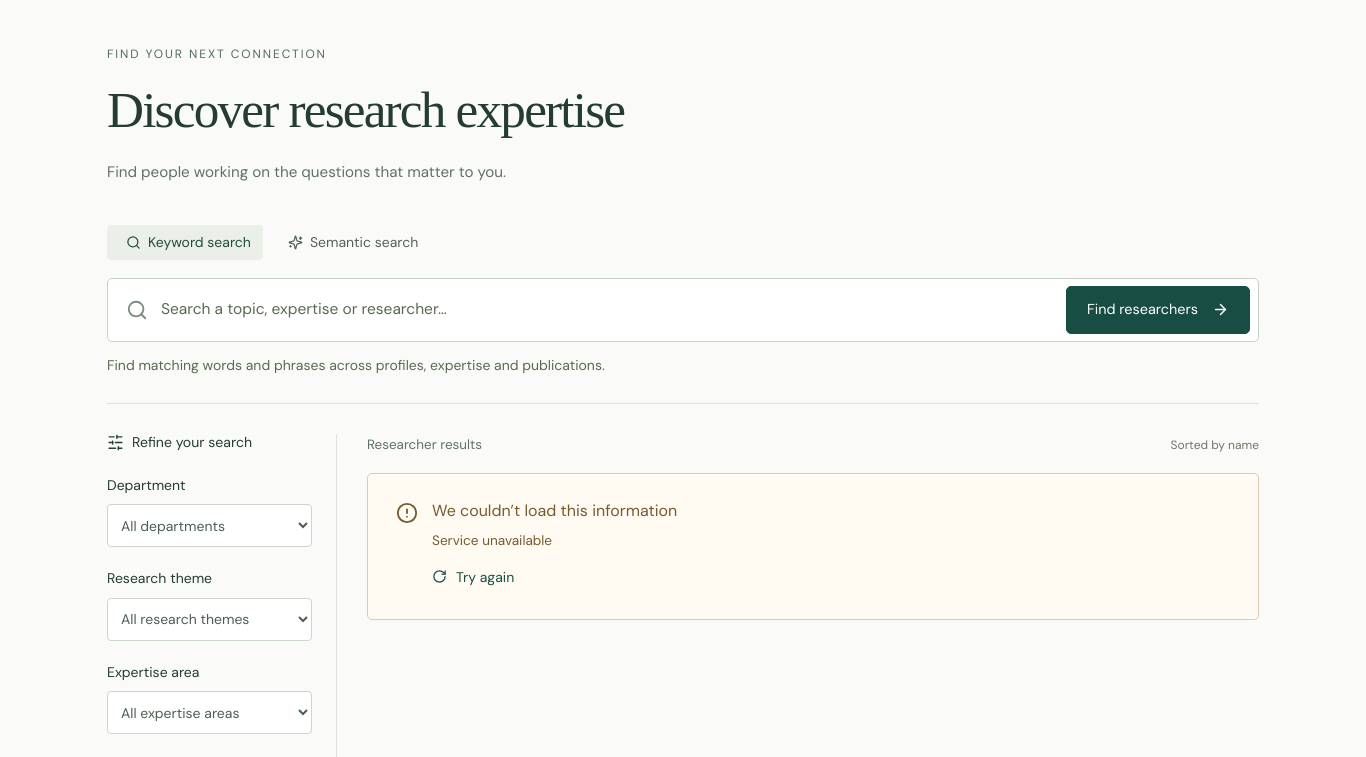
search discovery › shows safe error feedback and retries
expect the message "We couldn’t load this information Service unavailable Try again" is shown: met, box [367,474,1259,620]
Click the button "Try again" at (473, 577), box [432,566,514,588]
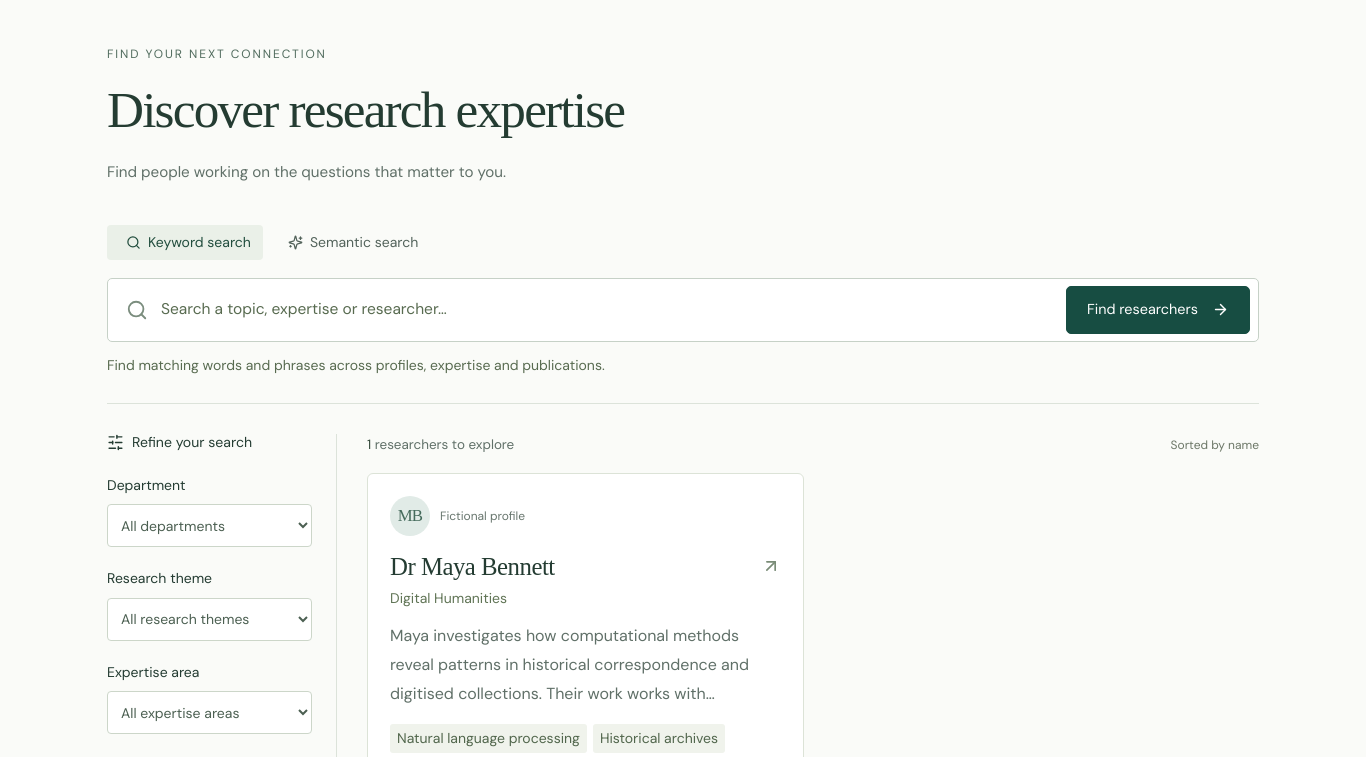
expect the link "Dr Maya Bennett" is shown: met, box [390,554,781,582]
